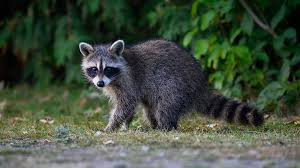raccoon: (79, 39, 269, 132)
